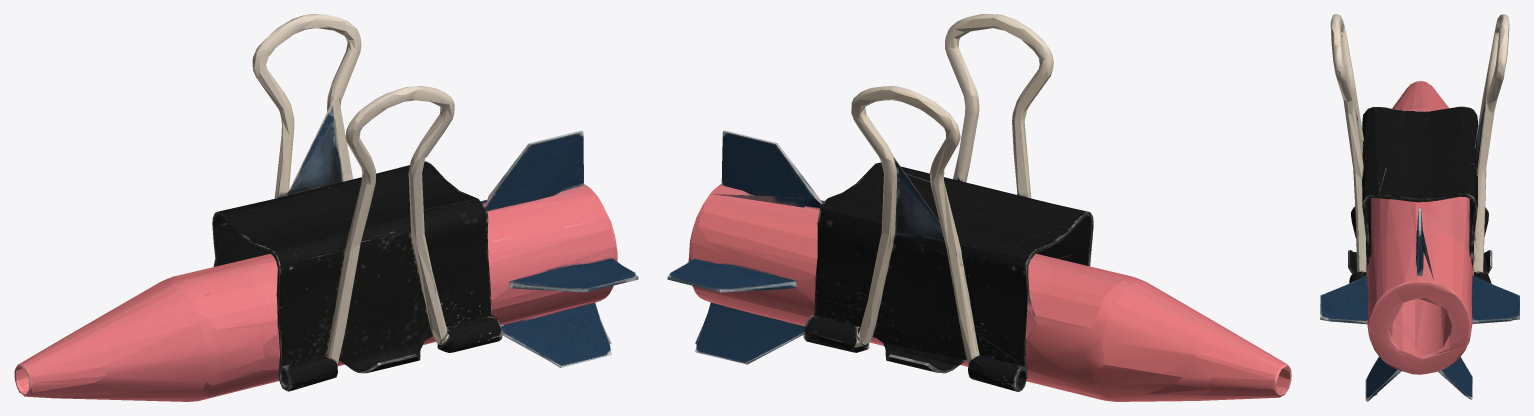
The model's file is meshy.glb.
The picture shows the model from 3 angles, left to right: view 1: azimuth 30°, elevation 25°; view 2: azimuth 150°, elevation 25°; view 3: azimuth 270°, elevation 25°; orthographic projection. The views are drawn at different scales.
Visible parts, largest first — view 1: Mesh_0; view 2: Mesh_0; view 3: Mesh_0.
Part boxes in pixels (bbox=[...]): Mesh_0: bbox=[14, 14, 638, 401]; Mesh_0: bbox=[667, 14, 1291, 401]; Mesh_0: bbox=[1320, 14, 1519, 401].
Bounding box in the file's own units: 1.9 × 1.08 × 0.679.
Materials: 1 (1 with a texture image).
